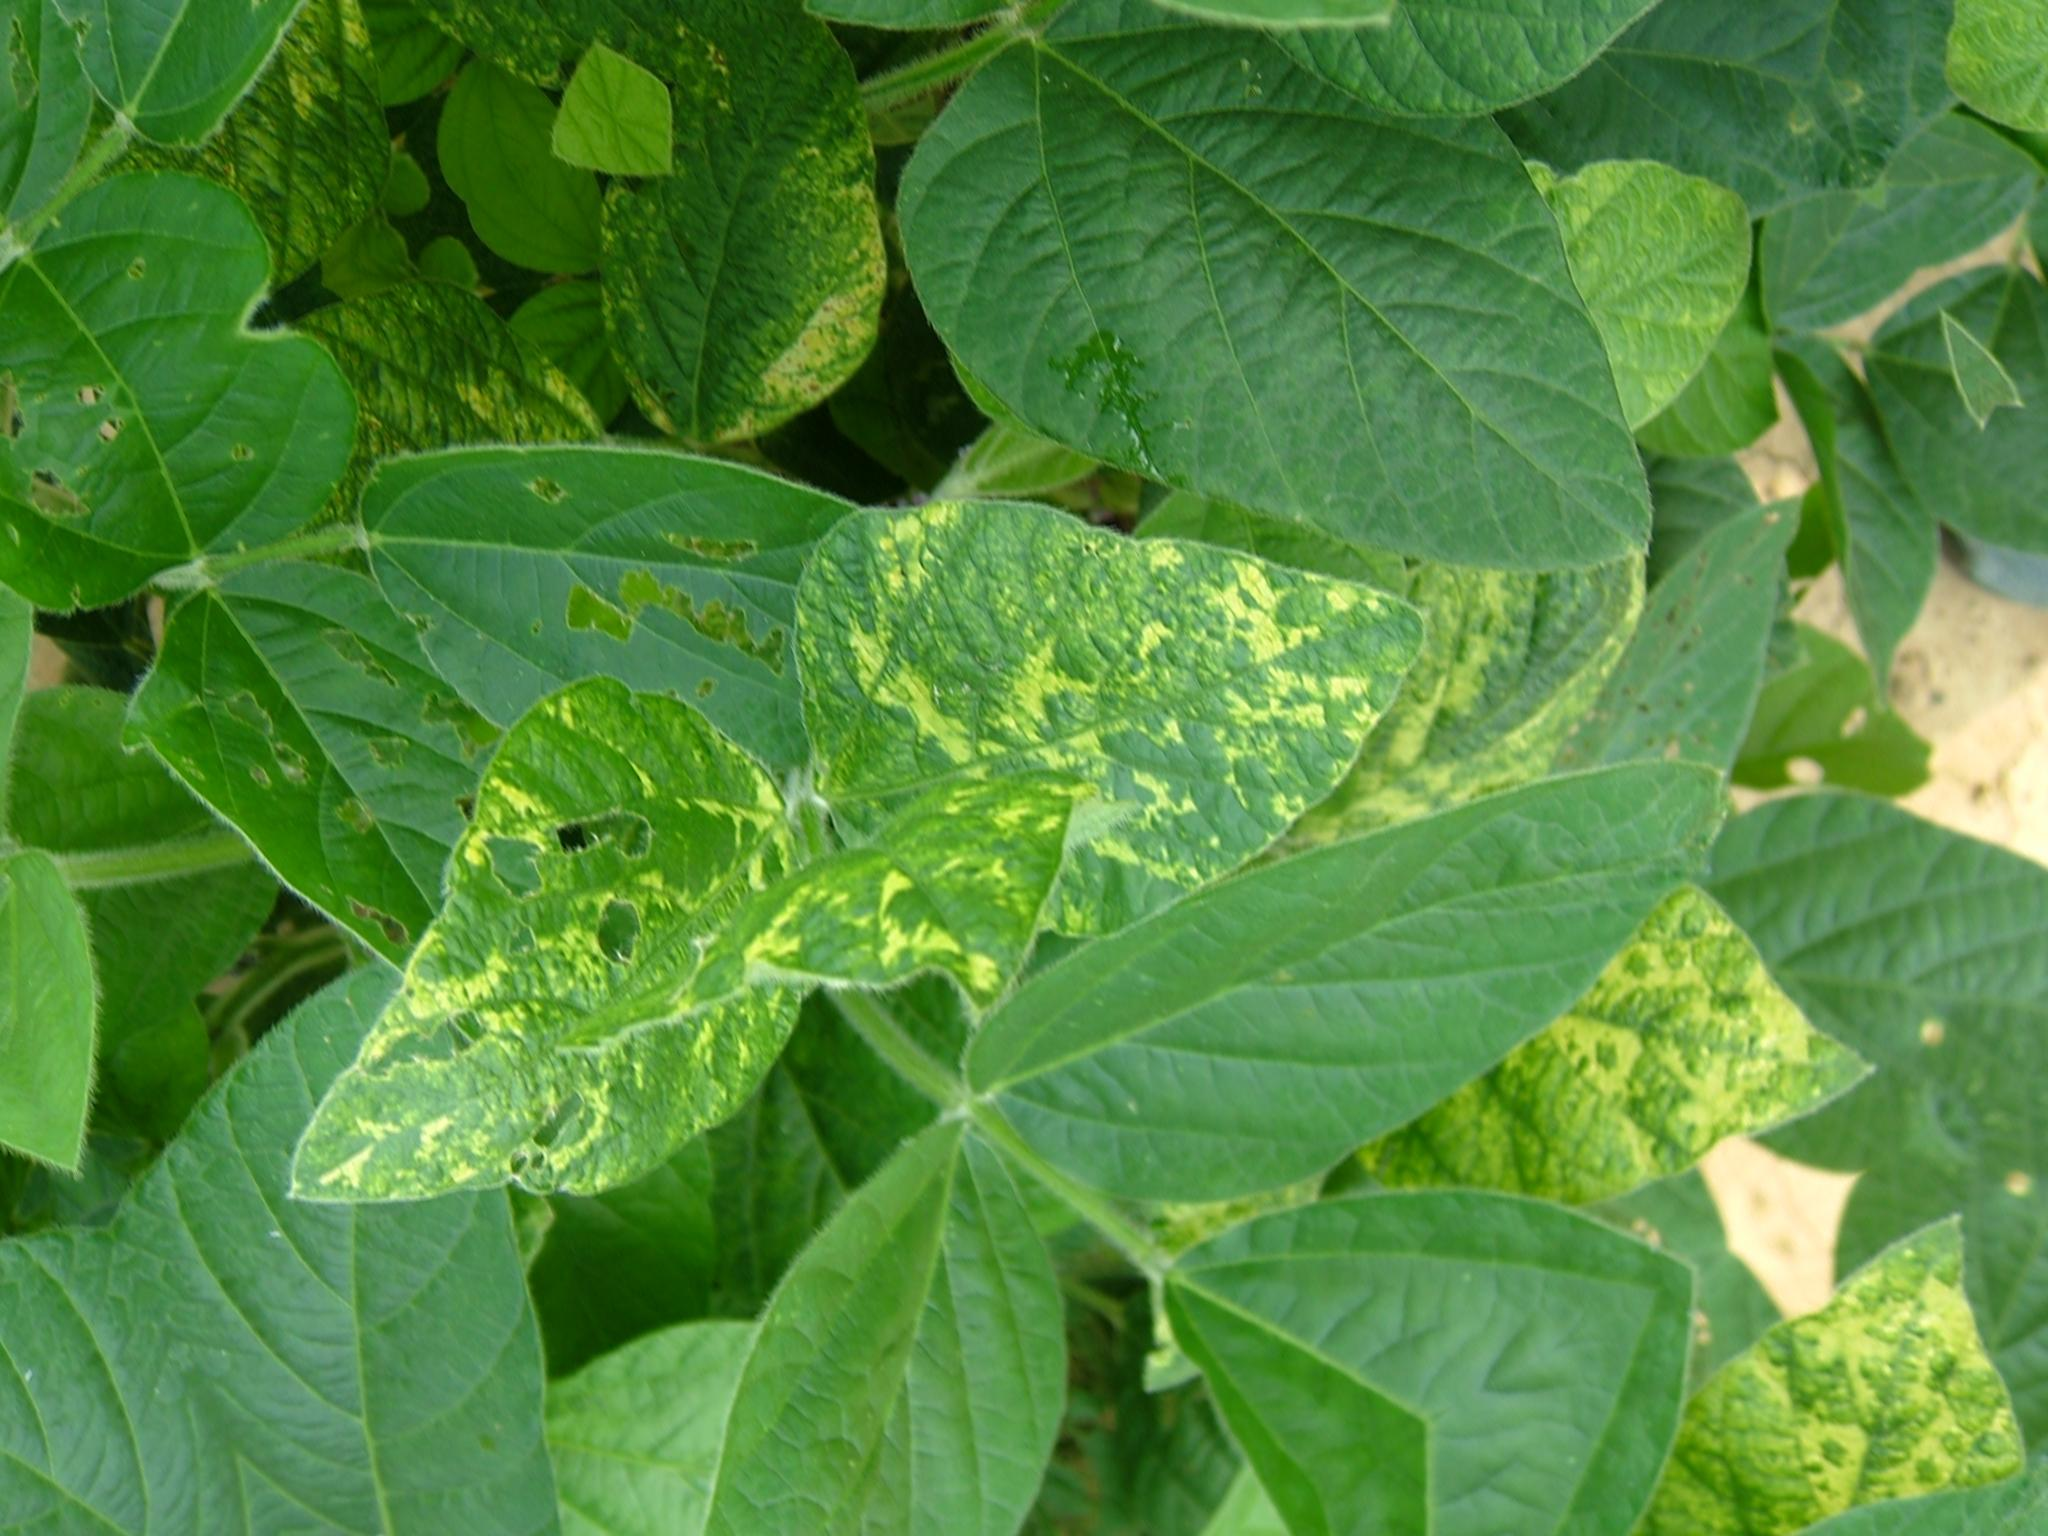Tomato leaf: (932, 641, 1774, 1315)
Tomato leaf mosaic virus: (131, 613, 922, 1357), (721, 324, 1445, 1007)
